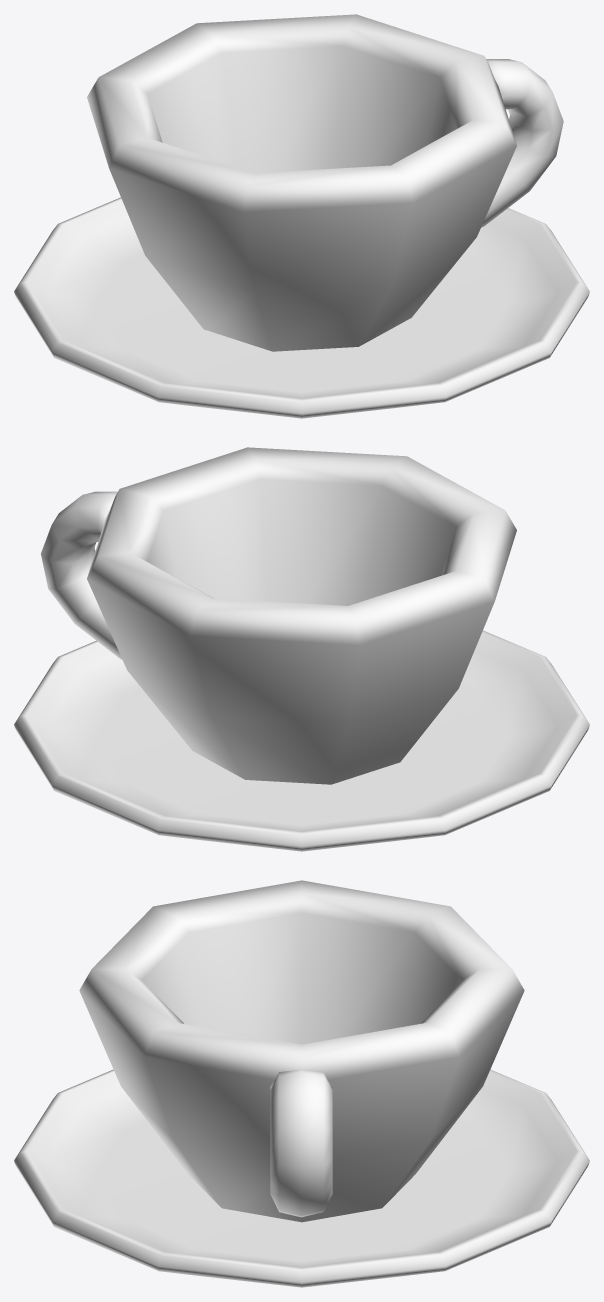
The model's file is prop_054.fbx.
3 views of the same model, one above another, from view 1: azimuth 30°, elevation 25°; view 2: azimuth 150°, elevation 25°; view 3: azimuth 270°, elevation 25° (orthographic).
Parts seen in each view (by area): view 1: prop_054; view 2: prop_054; view 3: prop_054.
Part boxes in pixels (x1,y1,x2,y2): prop_054: (14, 14, 589, 418); prop_054: (14, 447, 589, 851); prop_054: (14, 880, 589, 1287).
Size of the model in its own units: 24.19 by 23.91 by 10.68.
